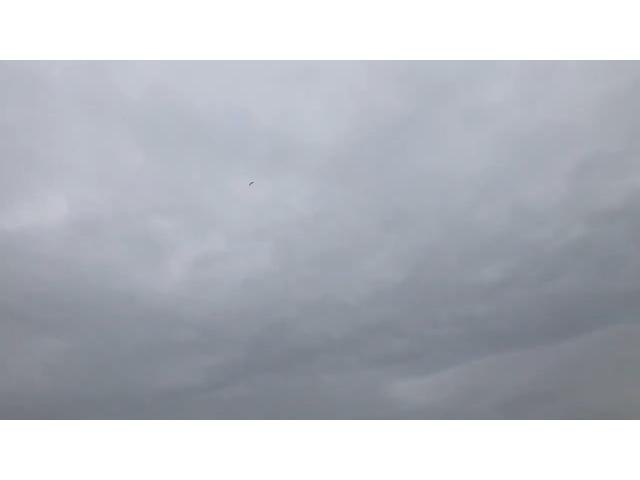Anti-Drone: (243, 178, 257, 188)
